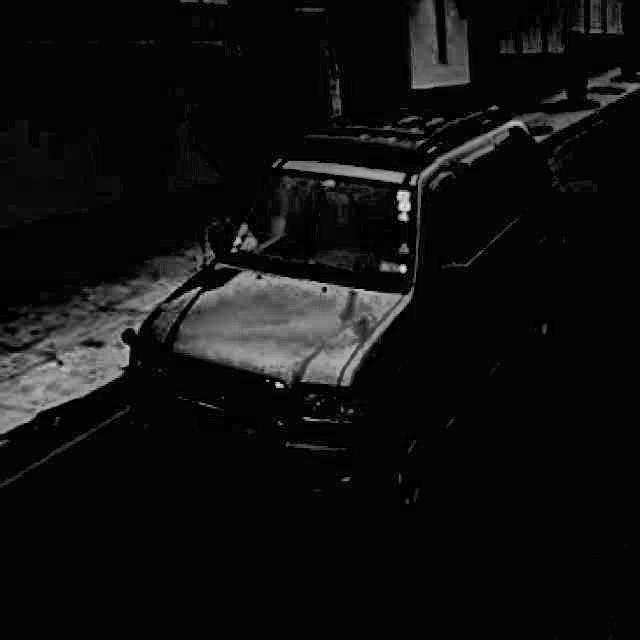carro: (127, 100, 568, 532)
